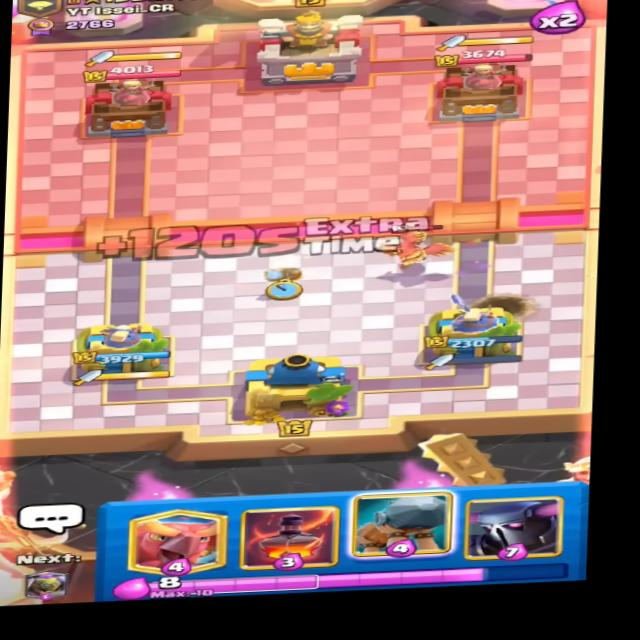phoenix: (370, 221, 472, 267)
